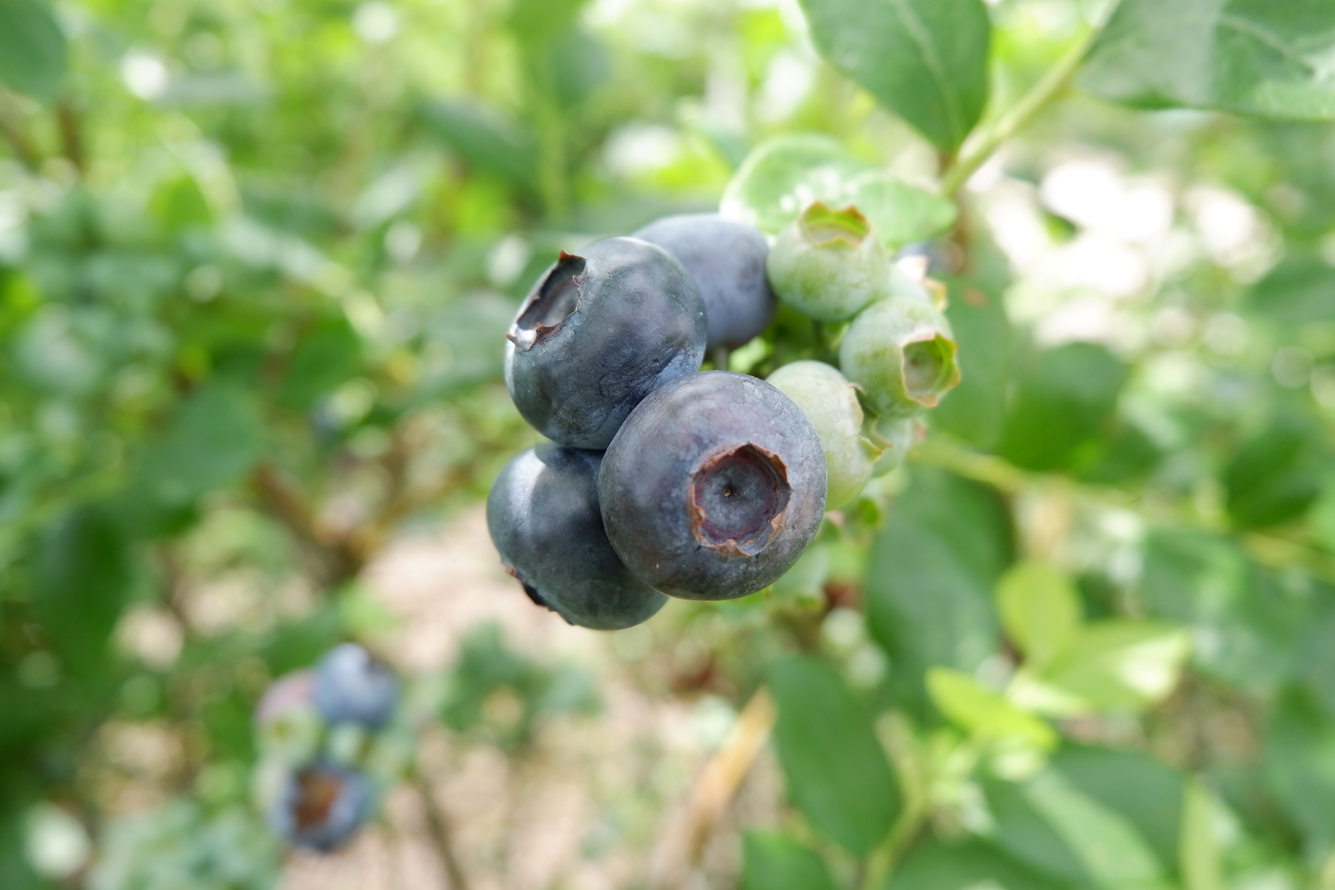Immature: (768, 365, 889, 508), (842, 296, 957, 413), (771, 212, 885, 319), (873, 417, 928, 479)
Mature: (605, 381, 823, 595), (503, 240, 707, 444), (491, 447, 661, 627), (637, 218, 773, 348)
